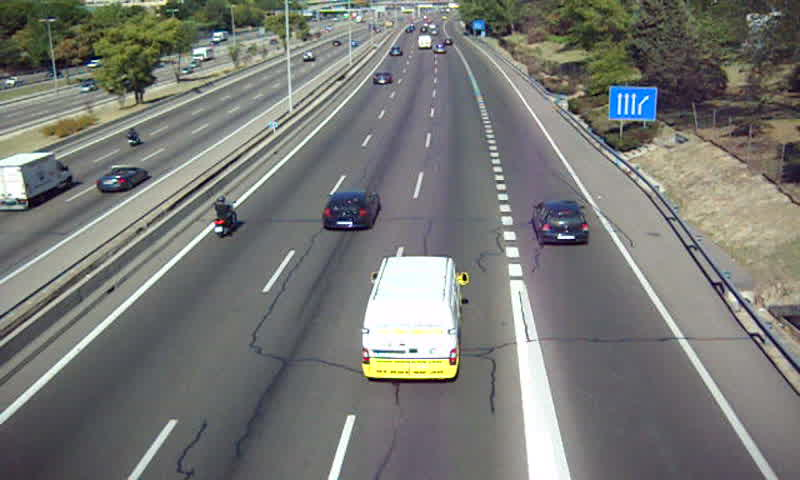car: (529, 201, 590, 246), (321, 189, 380, 234), (372, 70, 394, 87)
motorcycle: (210, 196, 238, 240)
van: (360, 256, 462, 379)
